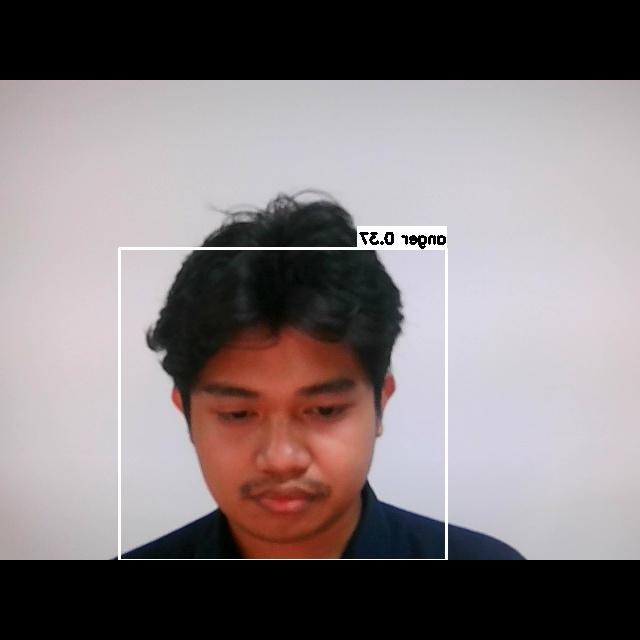Natural: (185, 366, 369, 519)
